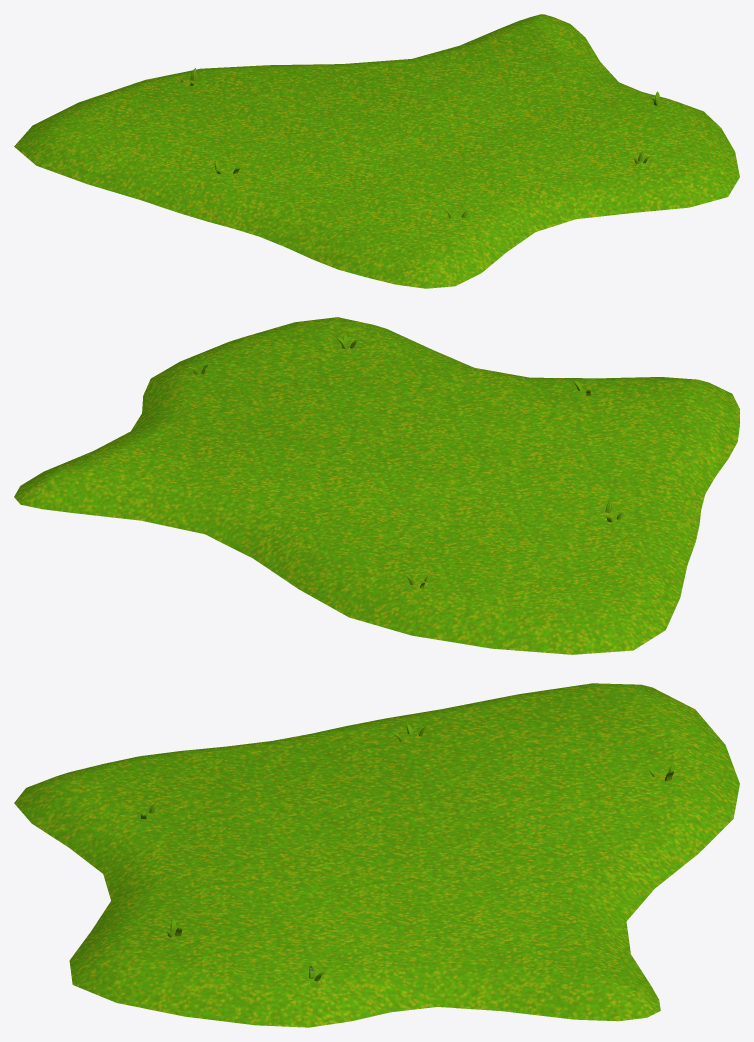
File: GrassBig1.fbx
3 renders of one model, top to bottom at view 1: azimuth 30°, elevation 25°; view 2: azimuth 150°, elevation 25°; view 3: azimuth 270°, elevation 25°, orthographic. The views are drawn at different scales.
Parts seen in each view (by area): view 1: GrassBig1_LOD0; view 2: GrassBig1_LOD0; view 3: GrassBig1_LOD0.
Boxes of the visible parts, x1,y1,x2,y2 form: GrassBig1_LOD0: (14, 14, 739, 288); GrassBig1_LOD0: (14, 317, 739, 654); GrassBig1_LOD0: (14, 683, 739, 1027).
Size of what is drawn, in the model's own units: 4020 by 181 by 3607.
